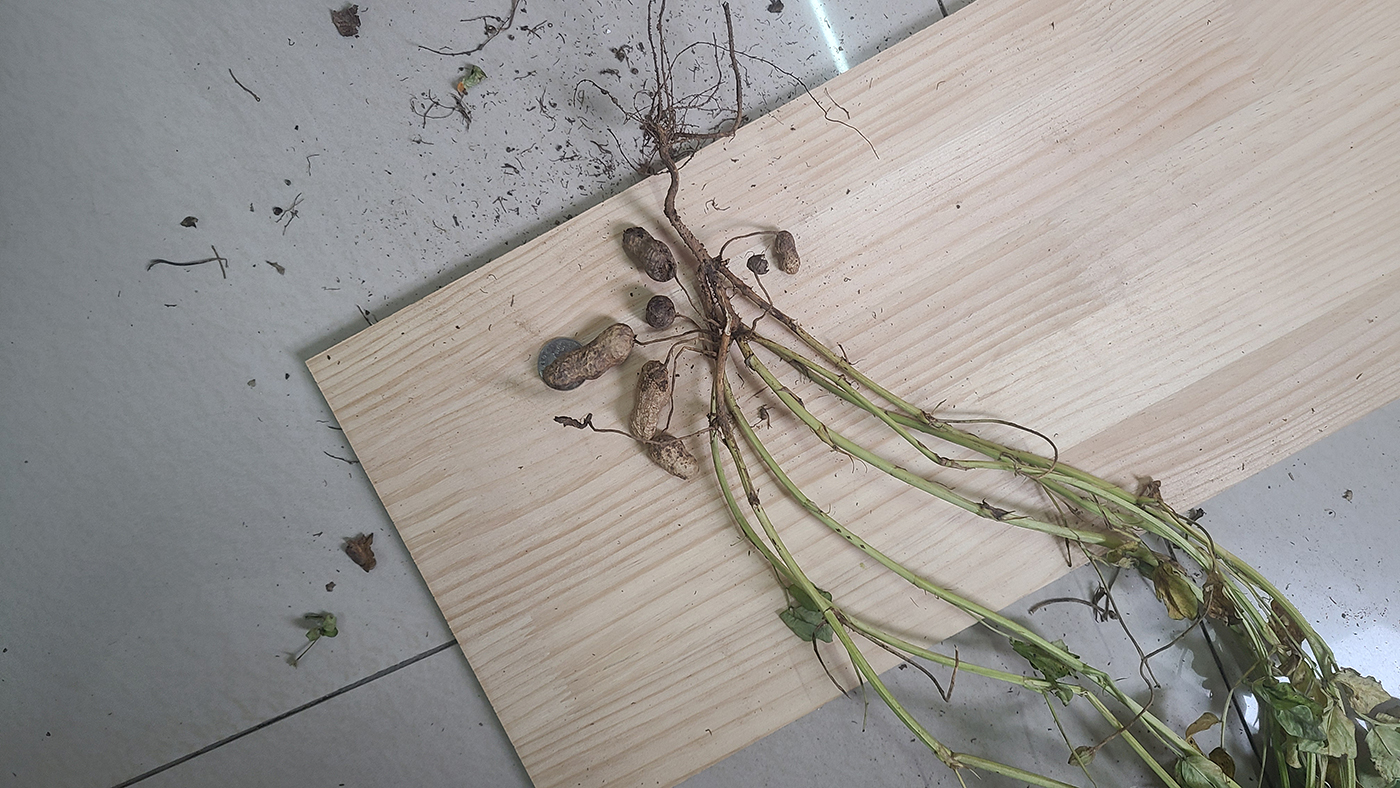h: (649, 437, 699, 479)
l: (542, 322, 634, 388), (629, 361, 670, 438), (621, 228, 677, 282), (774, 231, 800, 274), (645, 295, 675, 330), (555, 413, 588, 431), (747, 255, 771, 275)
